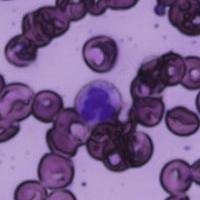N: (75, 79, 122, 127)
